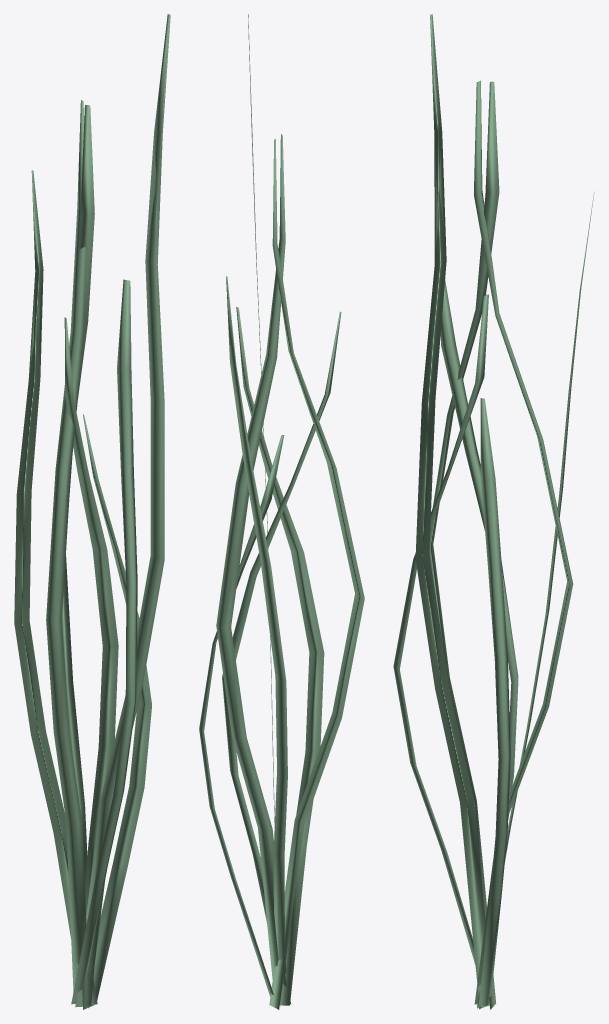
The model's file is plant1.fbx.
3 views of the same model, side by side, from view 1: azimuth 30°, elevation 25°; view 2: azimuth 150°, elevation 25°; view 3: azimuth 270°, elevation 25° (orthographic). The views are drawn at different scales.
Visible parts, largest first — view 1: node_id30; view 2: node_id30; view 3: node_id30.
Boxes of the visible parts, x1,y1,x2,y2 form: node_id30: (14, 14, 170, 1009); node_id30: (199, 14, 364, 1009); node_id30: (393, 14, 594, 1009).
Bounding box in the file's own units: 0.0741 × 0.512 × 0.0912.
1 material, 1 textured.
